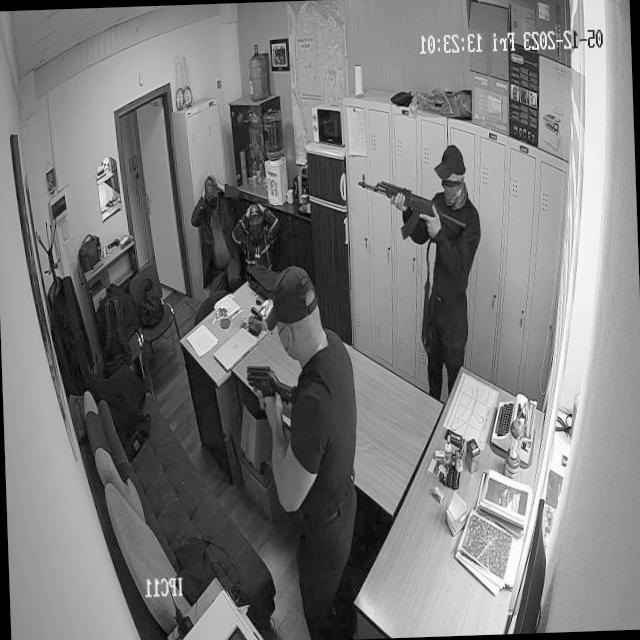gun: (354, 168, 451, 242), (248, 350, 286, 400)
person with a gun: (242, 258, 364, 604), (352, 140, 486, 372)
